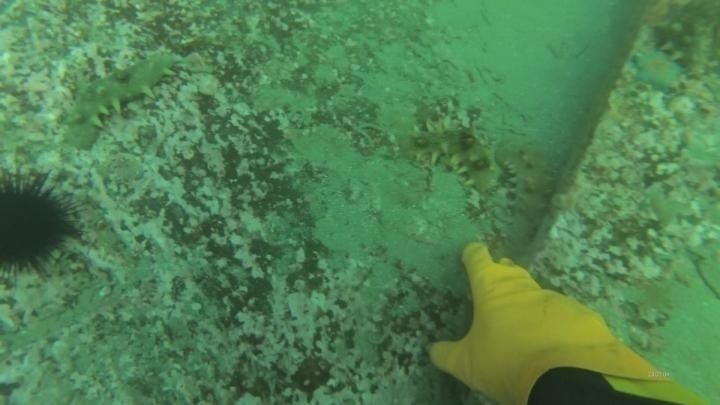echinus: (0, 168, 82, 281)
holothurian: (58, 48, 182, 152), (402, 119, 502, 198), (496, 139, 555, 249), (648, 9, 718, 80)
starfish: (629, 47, 687, 94)
